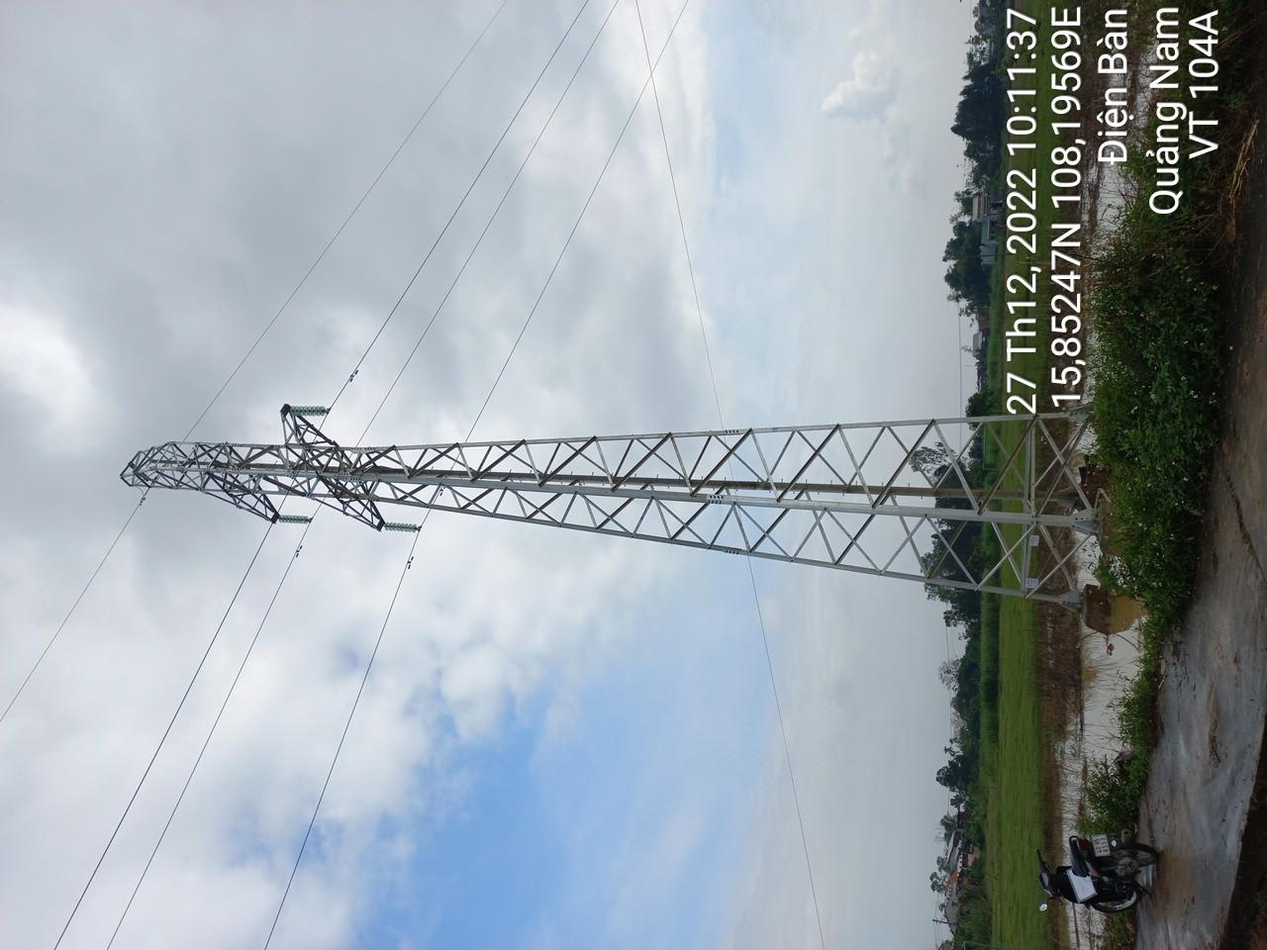tower: (448, 92, 729, 820)
